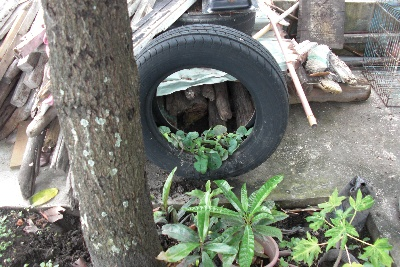tire: (133, 24, 291, 182)
